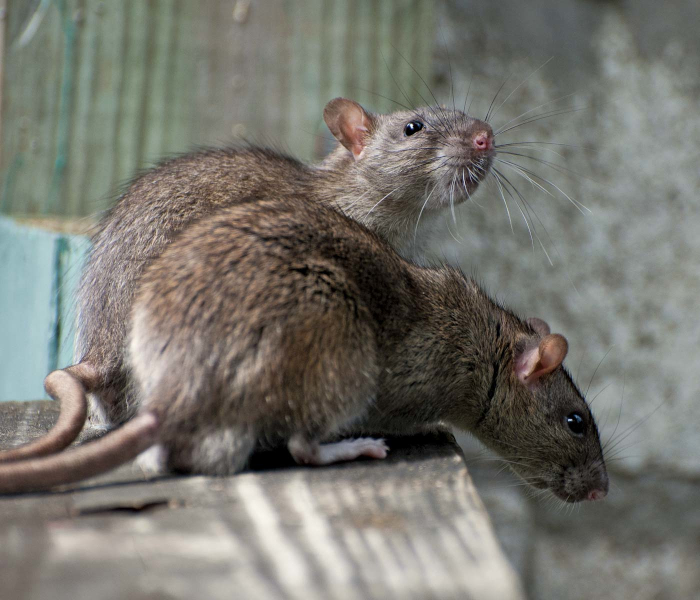rat: (224, 261, 616, 507), (77, 84, 509, 253)
